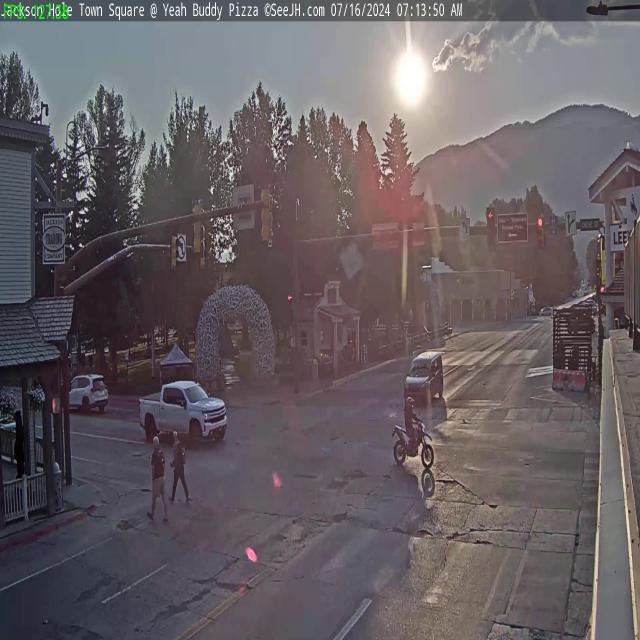minivan: (408, 350, 444, 404)
motorcycle: (392, 422, 438, 472)
person: (150, 429, 164, 523), (171, 431, 186, 506), (403, 395, 418, 441)
pickup: (141, 377, 225, 450)
suv: (67, 372, 108, 416)
traffic light: (190, 199, 204, 256), (260, 184, 273, 243), (171, 232, 181, 274), (486, 208, 496, 250), (536, 215, 544, 248)
